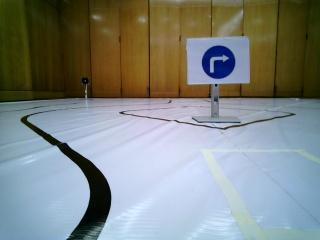right: (188, 37, 251, 81)
